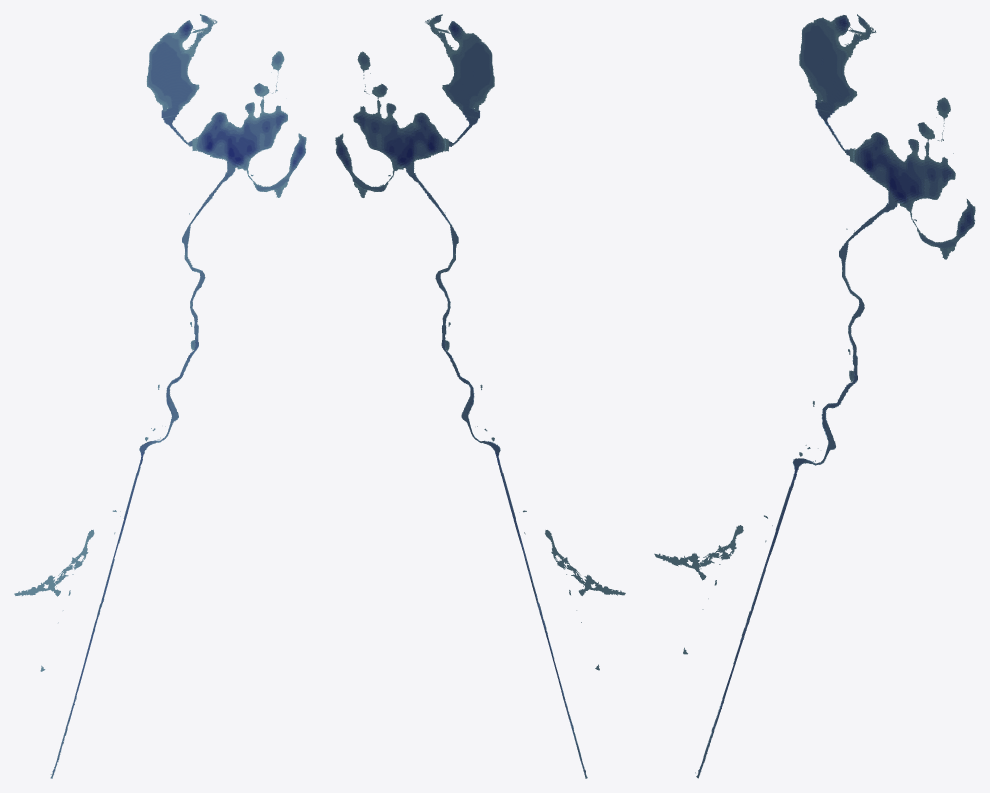
Rendered from triangle_mesh.glb.
The picture shows the model from 3 angles, left to right: view 1: azimuth 30°, elevation 25°; view 2: azimuth 150°, elevation 25°; view 3: azimuth 330°, elevation 25°; orthographic projection. The views are drawn at different scales.
Parts seen in each view (by area): view 1: world; view 2: world; view 3: world.
Boxes of the visible parts, x1=… form: world: x1=14, y1=14, x2=306, y2=778; world: x1=335, y1=14, x2=625, y2=778; world: x1=654, y1=14, x2=975, y2=778.
Size of the model in its own units: 1147 by 2739 by 13.99.
